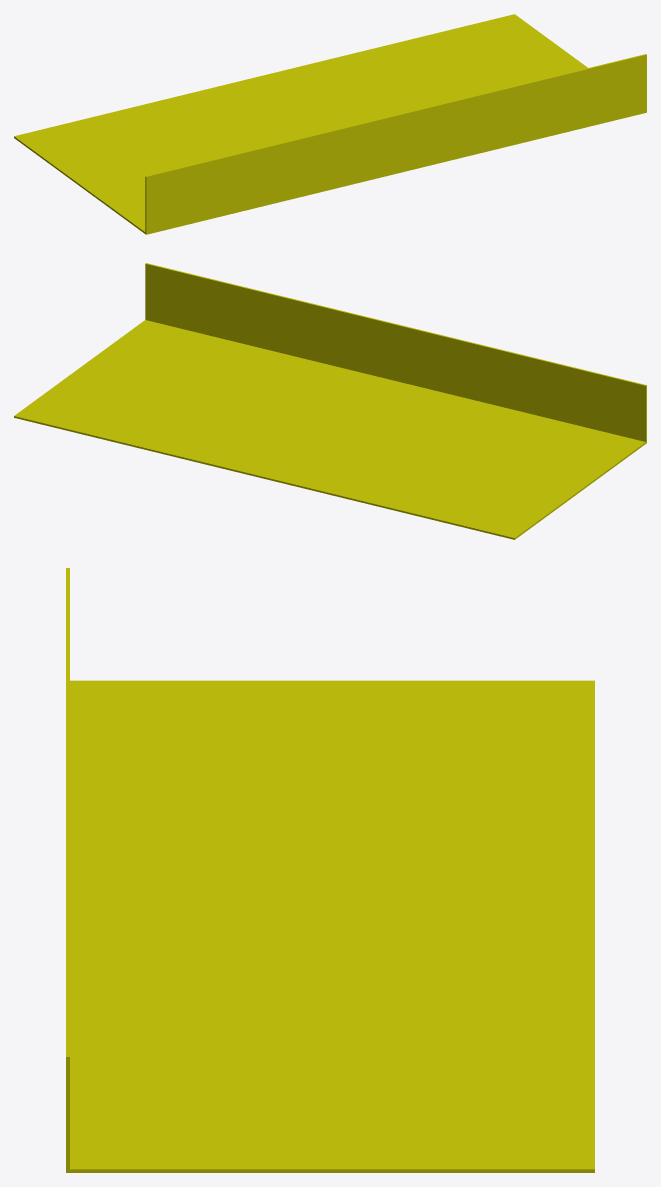
3 renders of one model, top to bottom at view 1: azimuth 30°, elevation 25°; view 2: azimuth 150°, elevation 25°; view 3: azimuth 270°, elevation 25°, orthographic. The views are drawn at different scales.
Bounding box in the file's own units: 0.47 × 0.052 × 0.215.
